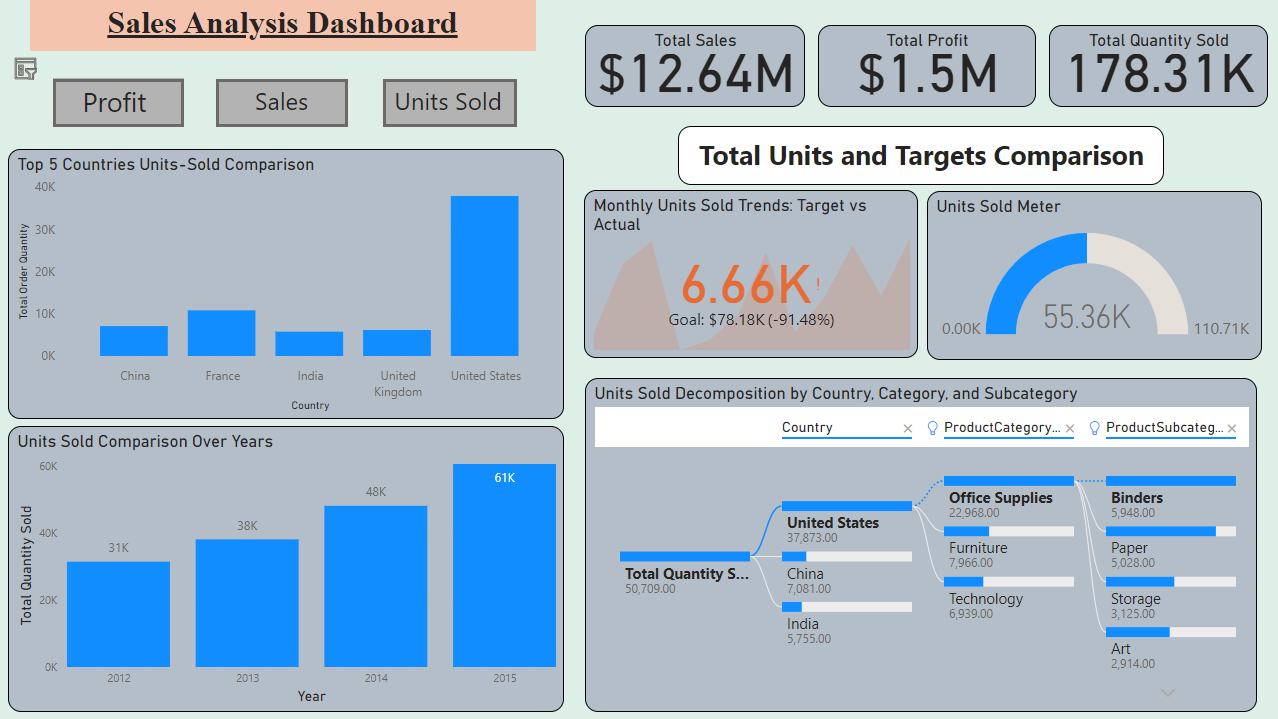

What the dashboard file says about the page in this screenshot:
{"tool":"powerbi","page":{"name":"Duplicate of Main Page ","canvas":[1280,720],"ordinal":2},"visuals":[{"type":"textbox","box":[54,78.8,131.4,48.2],"z":0},{"type":"textbox","box":[383.9,80.3,131.4,48.2],"z":1000},{"type":"textbox","box":[217.5,80.3,131.4,48.2],"z":2000},{"type":"actionButton","title":"Profit button","box":[54,80.3,131.4,48.2],"z":3000},{"type":"actionButton","title":"Sales button","box":[217.5,80,131.4,48.2],"z":4000},{"type":"actionButton","title":"Units sold button","box":[383.9,80,134.3,48.2],"z":5000},{"type":"card","title":"Total Sales","fields":{"Values":["Orders.Total Sales"]},"box":[586.4,25.9,219.7,81.9],"z":6000},{"type":"card","title":"Total Quantity Sold","fields":{"Values":["Orders.Total Quantity Sold"]},"box":[1049.9,25.9,219,81.9],"z":7000},{"type":"card","title":"Total Profit ","fields":{"Values":["Orders.Total Profit"]},"box":[818.6,25.9,218.8,81.9],"z":8000},{"type":"textbox","box":[30.6,0,506.5,52],"z":11000},{"type":"textbox","box":[679.1,127,485.3,59.3],"z":12000},{"type":"clusteredColumnChart","title":"Top 5 Countries Profit Comparison","fields":{"Category":["Location.Country","Location.City"],"Y":["Measures_table.Total Profit"]},"box":[11.3,150.8,555.4,269.3],"z":15000},{"type":"columnChart","title":"Profit Comparison Over Years","fields":{"Category":["DateTable.Date.Variation.Date Hierarchy.Year","DateTable.Date.Variation.Date Hierarchy.Quarter","DateTable.Date.Variation.Date Hierarchy.Month","DateTable.Date.Variation.Date Hierarchy.Day"],"Y":["Measures_table.Total Profit"]},"box":[11.3,427.1,555.4,286.2],"z":19000},{"type":"decompositionTreeVisual","title":"Profit Decomposition by Country, Category, and Subcategory","fields":{"ExplainBy":["Location.Country","Product_Category.ProductCategoryName","Product_Subcategory.ProductSubcategoryName"],"Analyze":["Measures_table.Total Profit"]},"box":[586.4,379.2,672.4,334.1],"z":21000},{"type":"kpi","title":"Monthly Profit Trends: Target vs Actual","fields":{"Goal":["Measures_table.Target Profit"],"Indicator":["Measures_table.Total Profit"],"TrendLine":["DateTable.Month"]},"box":[586.4,192.1,334.1,167.9],"z":25000},{"type":"gauge","title":"Profit Meter","fields":{"Y":["Measures_table.Total Profit"],"TargetValue":["Measures_table.Target Profit"]},"box":[928,192.1,334.1,167.9],"z":27000},{"type":"actionButton","title":"Slicer Button","box":[11.4,50.6,31,36.2],"z":29000}]}

Visuals, with their boxes in screenshot pixels (x1, y1, x2, y2), scaled from the page's 1280x720 canvas onto the 1278x719 screenshot:
textbox: bbox(54, 79, 185, 127)
textbox: bbox(383, 80, 514, 128)
textbox: bbox(217, 80, 348, 128)
"Profit button" actionButton: bbox(54, 80, 185, 128)
"Sales button" actionButton: bbox(217, 80, 348, 128)
"Units sold button" actionButton: bbox(383, 80, 517, 128)
"Total Sales" card: bbox(585, 26, 805, 108)
"Total Quantity Sold" card: bbox(1048, 26, 1267, 108)
"Total Profit " card: bbox(817, 26, 1036, 108)
textbox: bbox(31, 0, 536, 52)
textbox: bbox(678, 127, 1163, 186)
"Top 5 Countries Profit Comparison" clusteredColumnChart: bbox(11, 151, 566, 420)
"Profit Comparison Over Years" columnChart: bbox(11, 427, 566, 712)
"Profit Decomposition by Country, Category, and Subcategory" decompositionTreeVisual: bbox(585, 379, 1257, 712)
"Monthly Profit Trends: Target vs Actual" kpi: bbox(585, 192, 919, 360)
"Profit Meter" gauge: bbox(927, 192, 1260, 360)
"Slicer Button" actionButton: bbox(11, 51, 42, 87)
